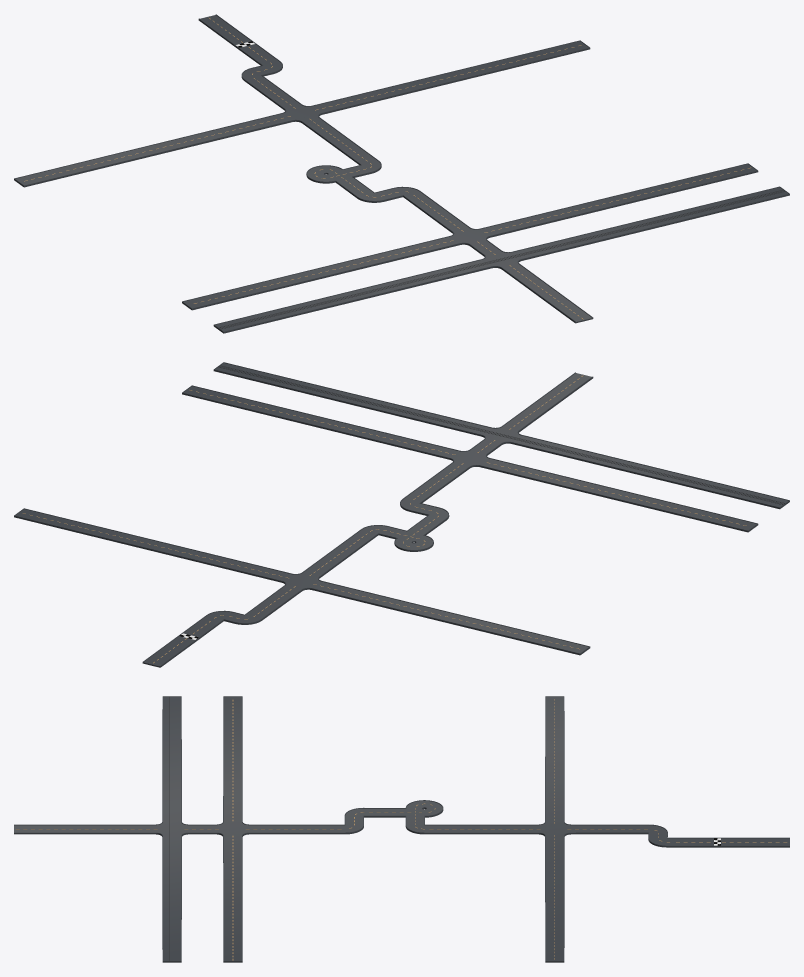
Rendered from Path10.3.fbx.
The picture shows the model from 3 angles, top to bottom: view 1: azimuth 30°, elevation 25°; view 2: azimuth 150°, elevation 25°; view 3: azimuth 270°, elevation 25°; orthographic projection. The views are drawn at different scales.
Visible parts, largest first — view 1: Plane.010; view 2: Plane.010; view 3: Plane.010.
Boxes of the visible parts, x1,y1,x2,y2 form: Plane.010: [14, 14, 789, 333]; Plane.010: [14, 362, 789, 667]; Plane.010: [14, 696, 789, 962].
Size of the model in its own units: 10317 by 29.64 by 12773.
